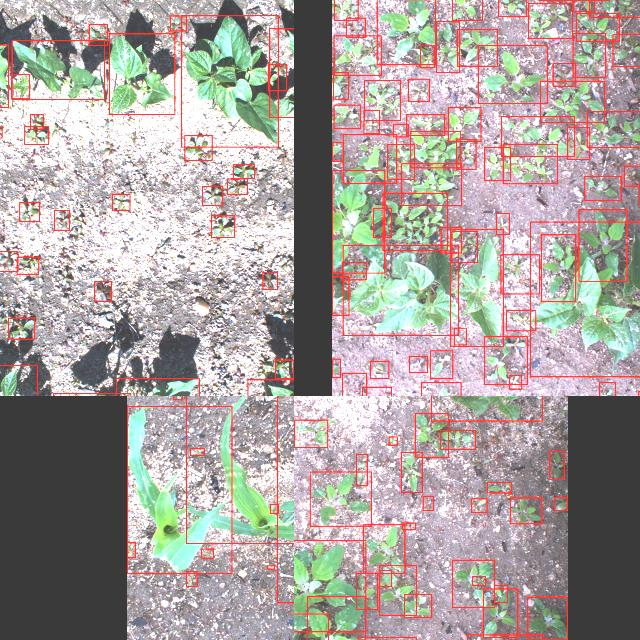crop: (126, 406, 232, 572), (529, 221, 640, 376), (186, 396, 294, 543), (180, 15, 278, 147), (342, 245, 458, 335), (450, 228, 502, 346), (10, 40, 104, 99), (108, 32, 174, 114), (332, 170, 384, 272), (375, 0, 434, 64), (431, 396, 542, 420), (269, 27, 294, 116), (115, 378, 198, 396), (0, 364, 36, 396), (0, 44, 7, 107)
weed: (294, 539, 365, 630), (478, 45, 546, 103), (382, 192, 446, 250), (579, 210, 627, 280), (309, 471, 371, 525), (501, 116, 574, 156), (540, 80, 604, 121), (342, 134, 396, 182), (307, 596, 365, 640), (401, 163, 461, 205), (540, 233, 576, 300), (502, 143, 558, 183), (484, 336, 526, 384), (452, 559, 494, 607), (362, 524, 404, 572), (586, 111, 640, 147), (332, 35, 380, 75), (378, 565, 416, 615), (410, 131, 460, 167), (482, 588, 518, 638), (527, 596, 567, 640), (500, 254, 540, 294), (528, 2, 572, 38), (457, 28, 497, 66), (572, 33, 606, 77), (414, 413, 448, 457), (364, 80, 400, 120), (435, 20, 459, 72), (576, 12, 618, 40), (448, 107, 480, 141), (386, 144, 414, 178), (612, 34, 640, 66), (484, 146, 510, 180), (585, 176, 621, 200), (294, 419, 326, 446), (401, 452, 422, 492), (451, 230, 477, 262), (588, 0, 640, 16), (511, 497, 542, 523), (406, 114, 444, 134), (184, 134, 212, 160), (356, 573, 376, 609), (567, 127, 589, 159), (332, 104, 360, 128), (440, 429, 474, 448), (430, 350, 452, 378), (404, 594, 432, 616), (332, 276, 348, 314), (505, 310, 535, 330), (456, 139, 476, 169), (552, 62, 576, 86), (341, 373, 366, 396), (452, 0, 482, 19), (420, 382, 460, 396), (8, 317, 34, 338), (372, 208, 390, 236), (212, 215, 234, 237), (440, 228, 460, 252), (268, 64, 286, 90), (333, 0, 357, 19), (408, 78, 428, 100), (24, 125, 48, 143), (11, 74, 29, 98), (341, 261, 365, 279), (498, 0, 526, 15), (332, 72, 348, 98), (274, 358, 294, 378), (202, 185, 222, 205), (16, 256, 38, 274), (550, 450, 564, 478), (88, 23, 106, 44), (19, 202, 39, 220), (346, 17, 364, 37), (363, 110, 379, 132), (369, 360, 388, 378), (623, 165, 640, 185), (0, 251, 16, 271), (94, 281, 110, 301), (227, 178, 247, 194), (232, 164, 254, 178), (420, 45, 434, 67), (408, 356, 427, 372), (356, 454, 366, 484), (361, 386, 390, 396), (111, 193, 129, 209), (54, 210, 68, 230), (496, 212, 508, 234), (262, 272, 278, 288), (572, 0, 594, 11), (170, 15, 186, 30), (599, 381, 615, 396), (487, 482, 511, 492), (494, 584, 506, 602), (472, 498, 486, 512), (453, 328, 465, 344), (392, 124, 408, 136), (379, 570, 391, 586), (332, 142, 342, 160), (186, 570, 197, 586), (30, 114, 42, 128), (509, 375, 521, 389), (331, 358, 339, 378), (554, 496, 566, 509), (423, 496, 433, 510), (201, 548, 213, 558), (126, 542, 134, 556), (472, 576, 486, 584), (401, 522, 415, 530), (189, 448, 203, 454), (270, 503, 278, 512), (388, 436, 396, 444), (172, 396, 181, 399), (266, 566, 274, 568)
